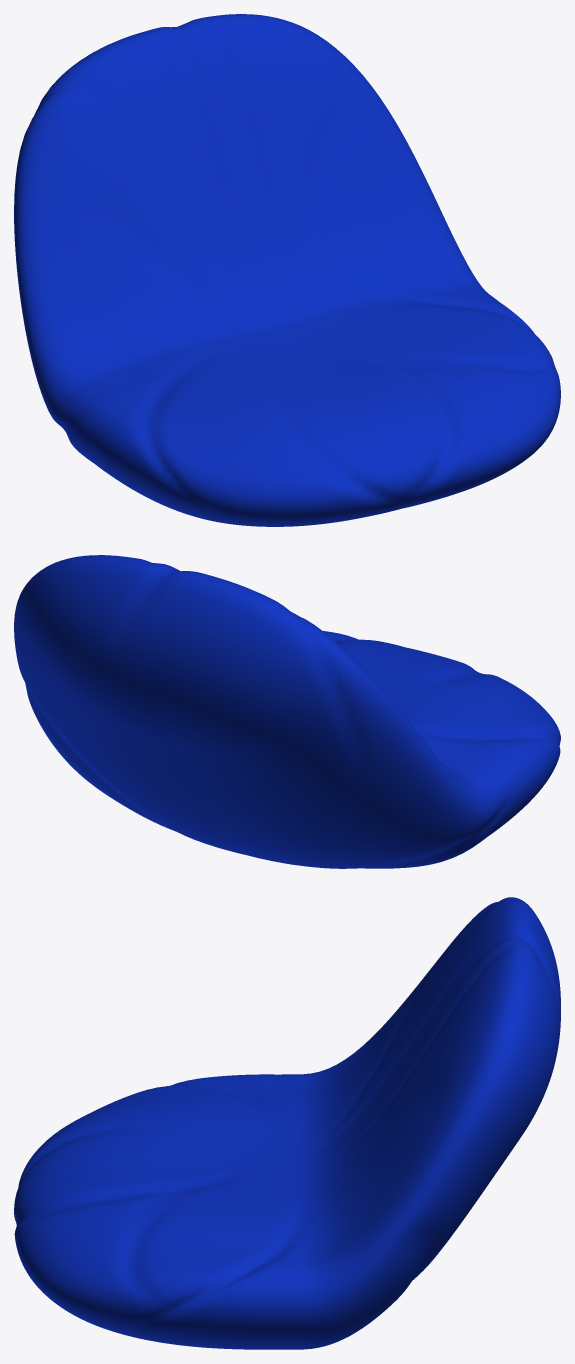
Rendered from beanBag-2.glb.
3 renders of one model, top to bottom at view 1: azimuth 30°, elevation 25°; view 2: azimuth 150°, elevation 25°; view 3: azimuth 270°, elevation 25°, orthographic. The views are drawn at different scales.
Parts seen in each view (by area): view 1: beanBag_2_continuous_cloth; view 2: beanBag_2_continuous_cloth; view 3: beanBag_2_continuous_cloth.
Boxes of the visible parts, left/top/right/bottom form: beanBag_2_continuous_cloth: left=14, top=14, right=560, bottom=526; beanBag_2_continuous_cloth: left=14, top=555, right=560, bottom=868; beanBag_2_continuous_cloth: left=14, top=897, right=560, bottom=1349.
Size of the model in its own units: 1.04 by 0.78 by 1.1.
